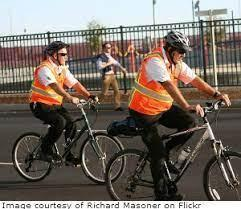Vest: (130, 56, 180, 118), (28, 62, 67, 106)
